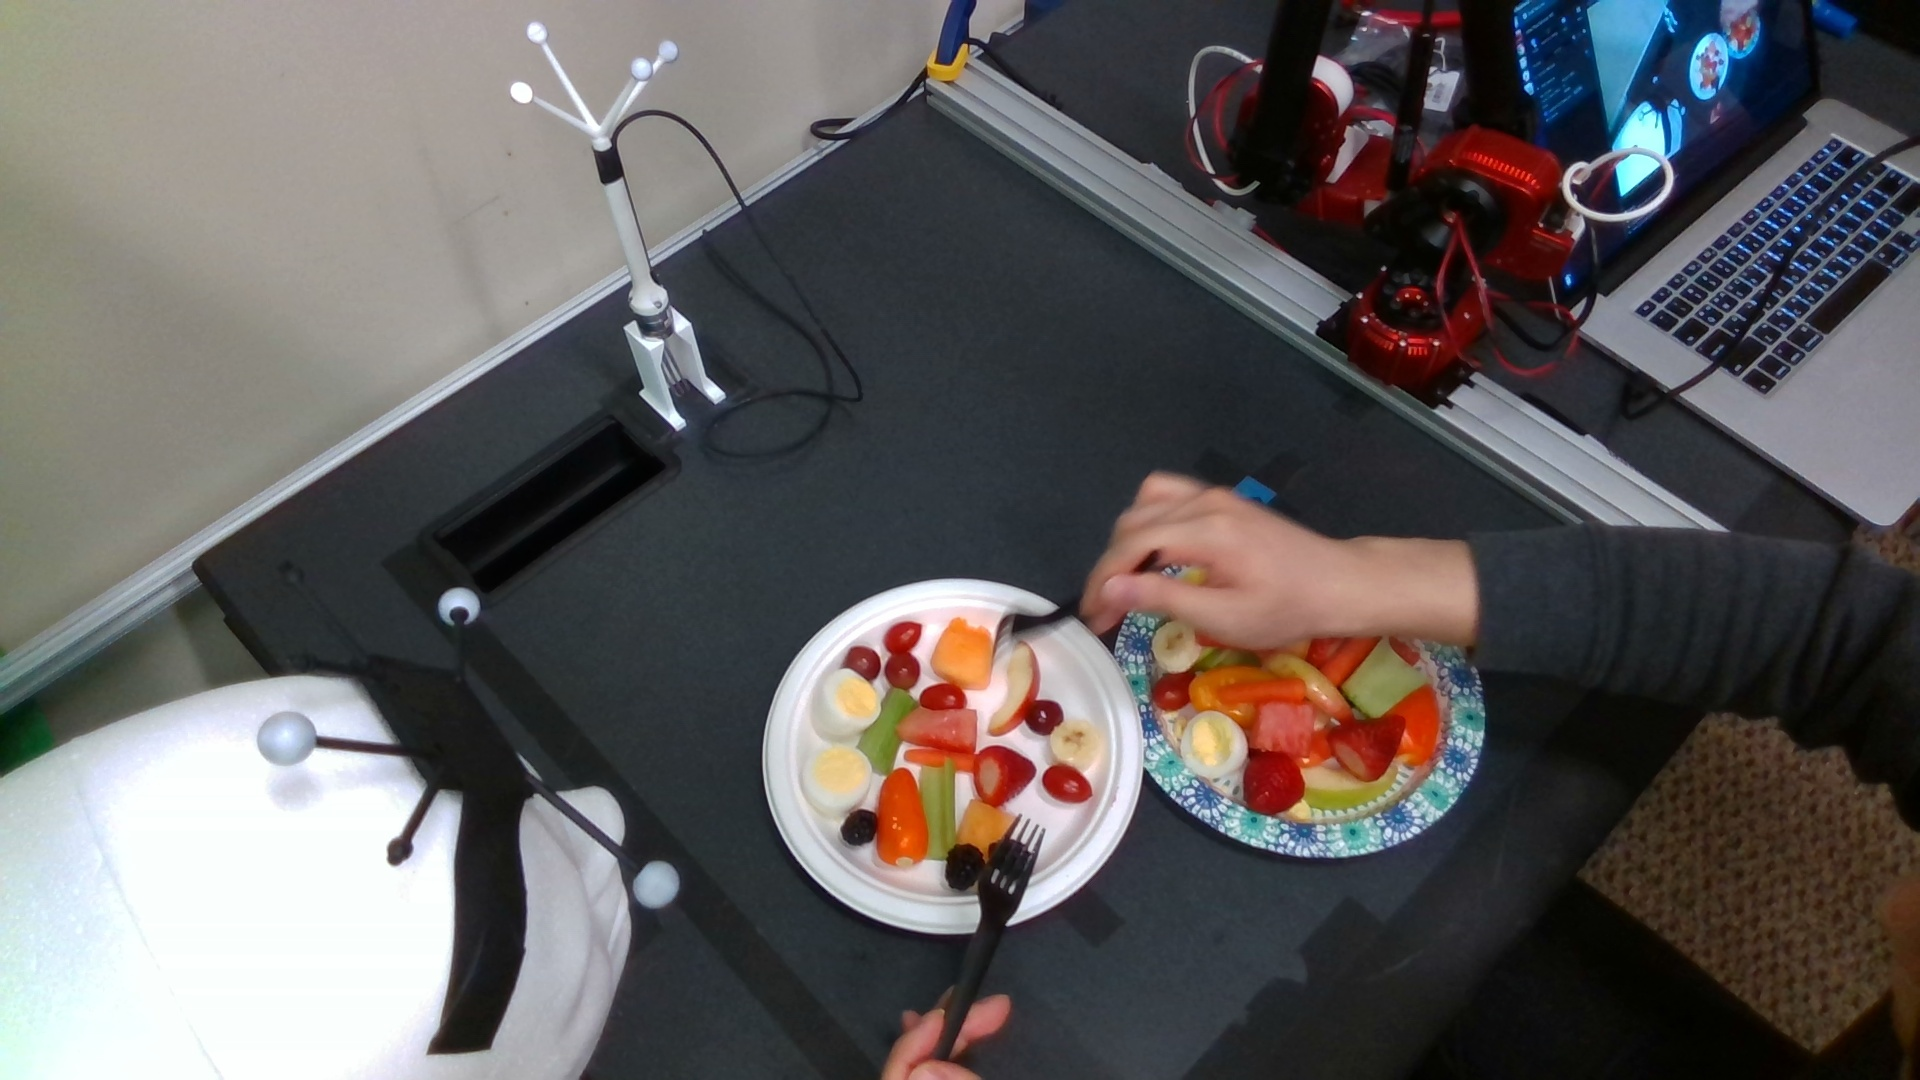apple: (1000, 644, 1038, 736)
banana: (1048, 713, 1105, 760), (1150, 618, 1197, 671)
bell_pepper: (876, 771, 920, 862), (1399, 683, 1440, 767)
blackberry: (836, 811, 878, 847), (948, 843, 986, 876)
cantalope: (927, 615, 1002, 687), (945, 798, 1015, 851)
carrot: (1216, 676, 1307, 705), (905, 746, 978, 771)
celery: (905, 760, 965, 855), (1342, 641, 1419, 715), (872, 686, 907, 774)
cherry_tomato: (1044, 762, 1092, 807), (916, 682, 967, 713), (1155, 670, 1193, 709), (890, 617, 922, 655)
egg: (1182, 708, 1250, 781), (812, 669, 877, 741), (799, 744, 870, 808)
grape_purple: (843, 644, 884, 682), (1029, 699, 1063, 733), (882, 653, 920, 683)
melon: (899, 705, 982, 752), (1251, 698, 1313, 754)
strawberry: (1328, 711, 1404, 779), (1242, 750, 1307, 814), (973, 745, 1035, 807)
